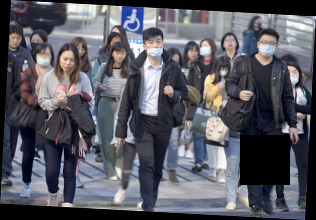mask_weared_incorrect: (146, 38, 164, 59), (35, 49, 53, 70), (286, 68, 302, 85)
with_mask: (258, 39, 278, 59), (29, 37, 45, 52), (198, 43, 213, 59), (219, 67, 230, 78)
without_mask: (59, 55, 77, 73), (9, 34, 24, 50), (223, 37, 238, 51), (186, 47, 200, 61), (112, 50, 127, 63), (74, 45, 87, 58)
